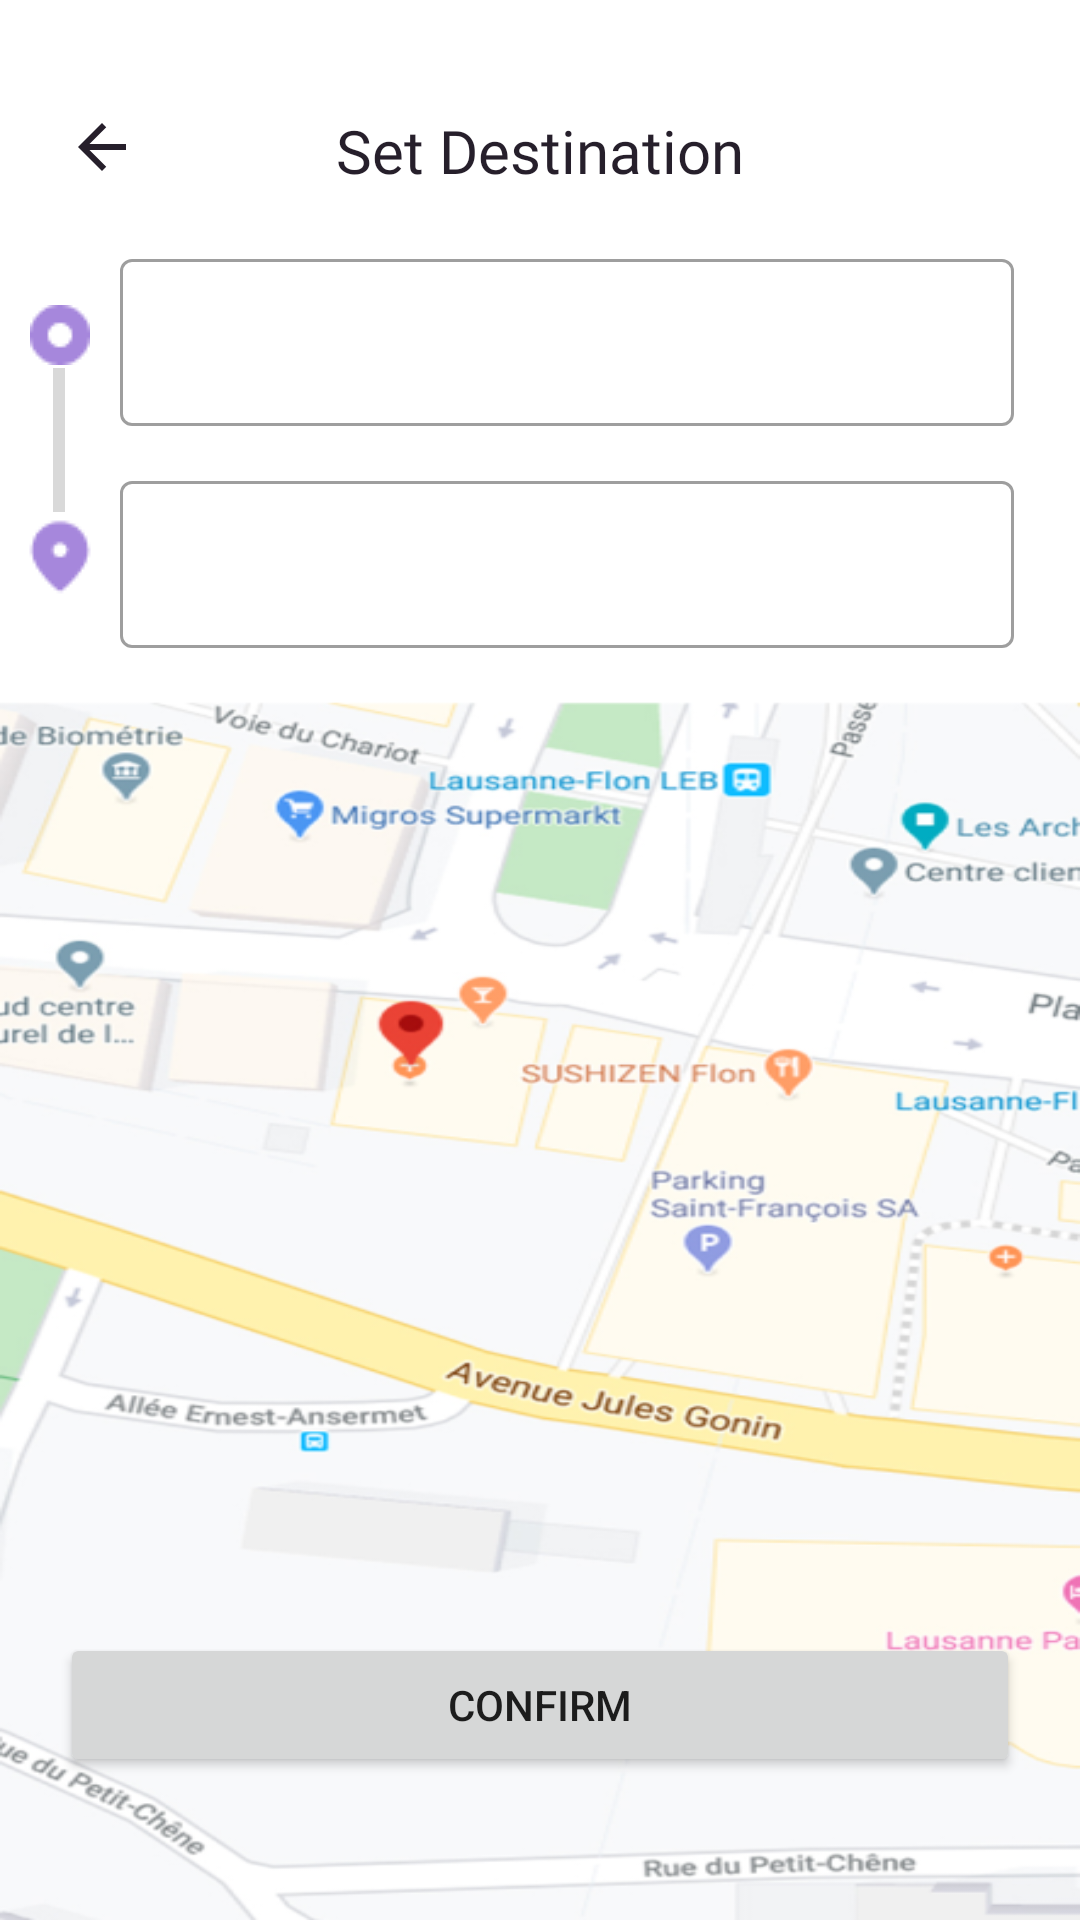

Where to tap for icons on this 1080w x 1920h app screen, as (x,y):
arrow back: (102,147)
destination: (60,555)
location: (60,335)
